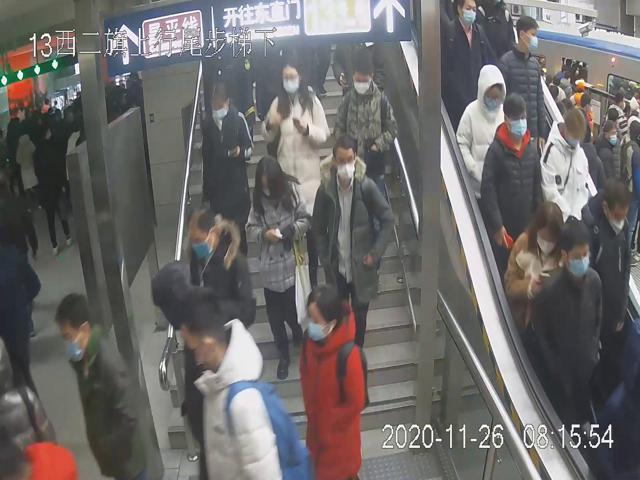person: (312, 136, 398, 377), (259, 50, 329, 293), (245, 154, 311, 386), (294, 285, 371, 480), (527, 218, 601, 416), (331, 44, 398, 223), (201, 78, 253, 273), (481, 91, 540, 258), (181, 205, 256, 336), (500, 198, 569, 336), (451, 63, 511, 203), (498, 14, 545, 138), (441, 1, 484, 91)
